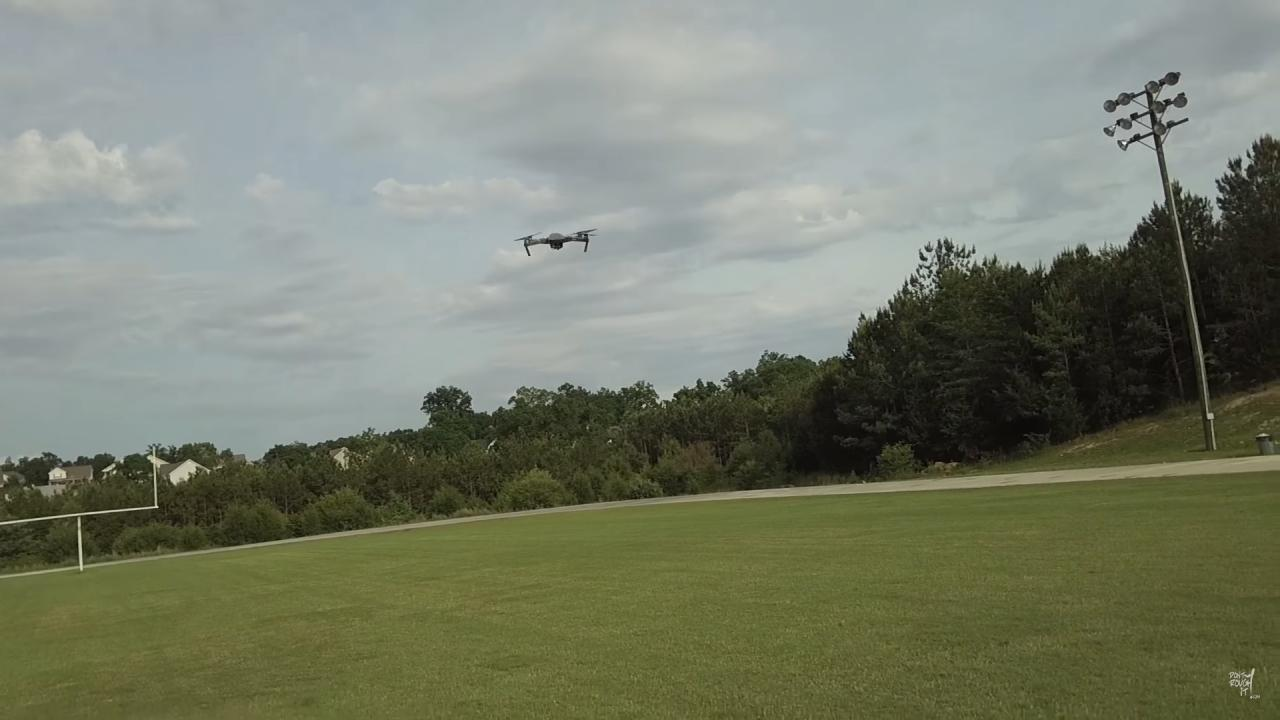Drone: (505, 216, 606, 266)
